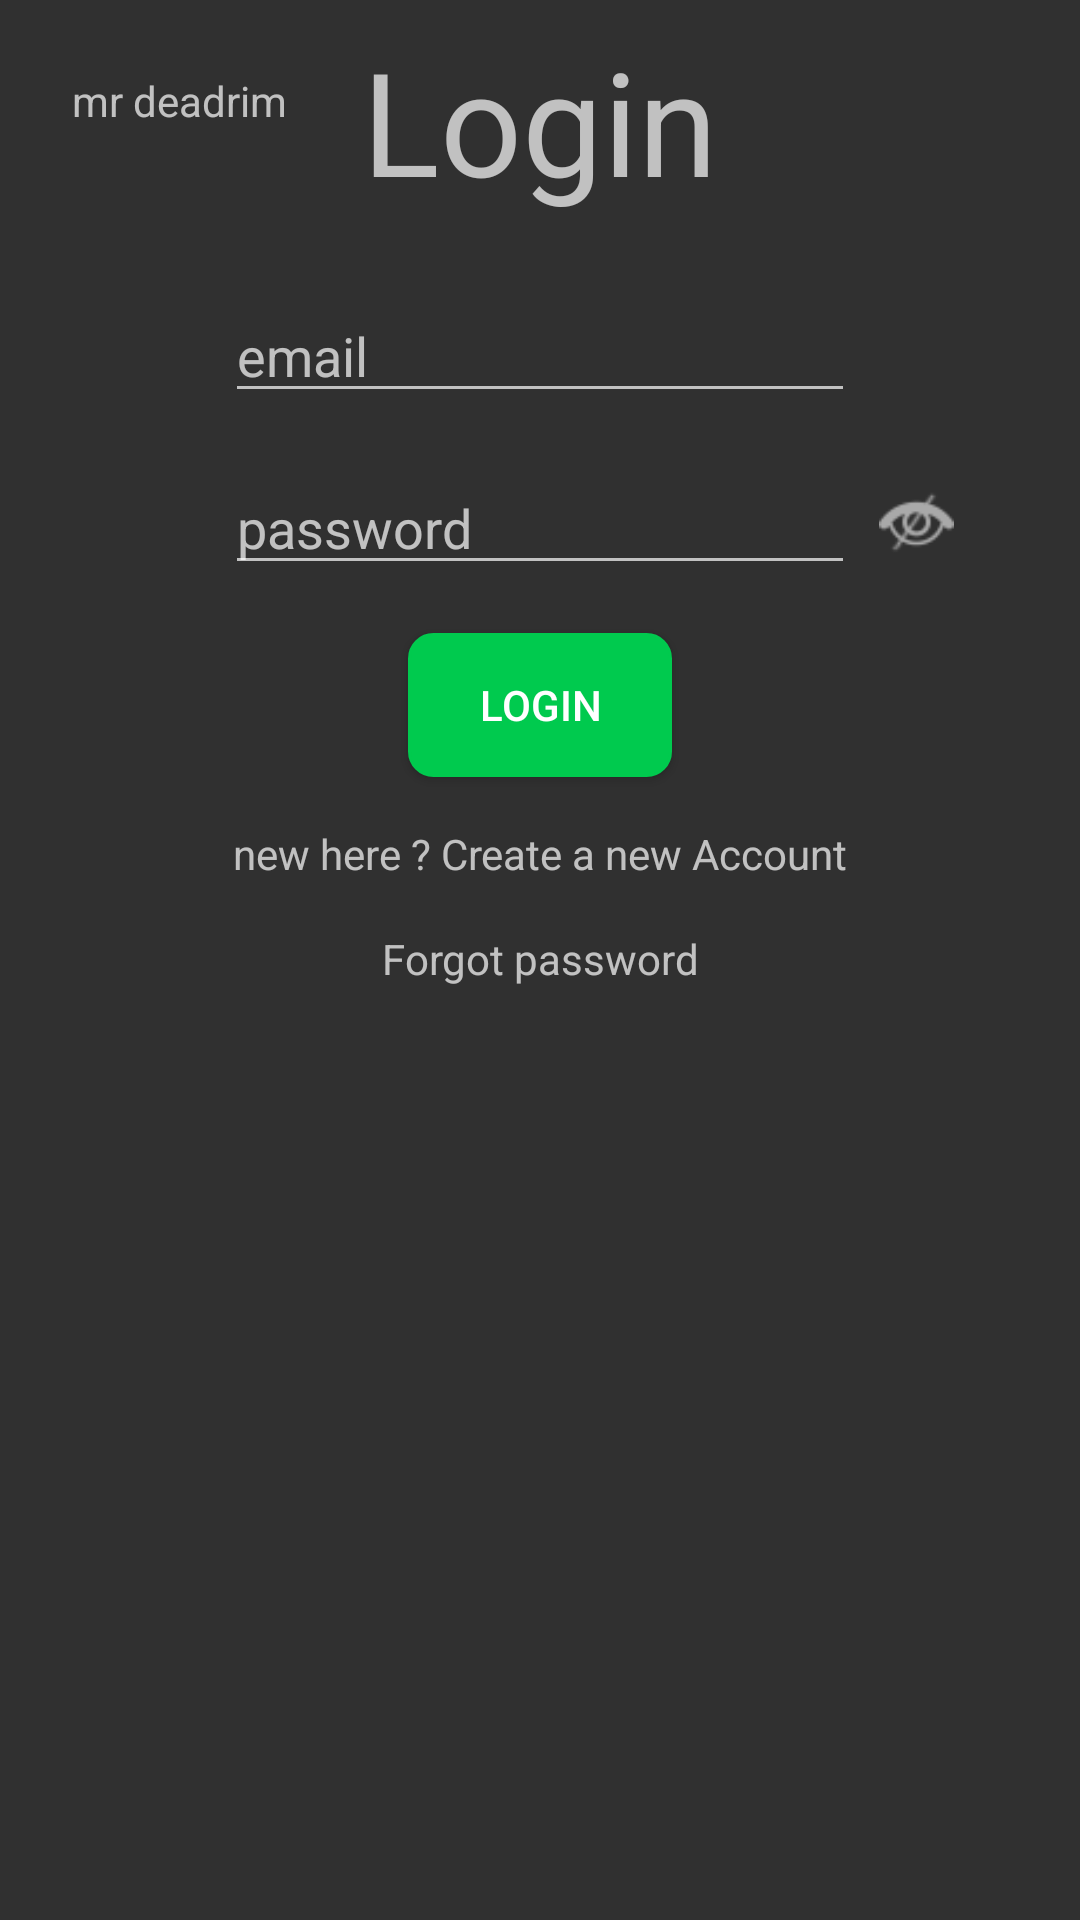

Where to tap for icons on this 1080 x 1920 app screen, as [x,y]:
invisible close: [916,522]
